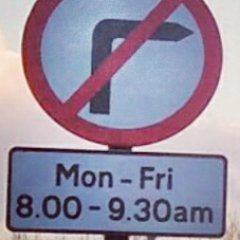No_right_turn: (21, 1, 223, 147)
